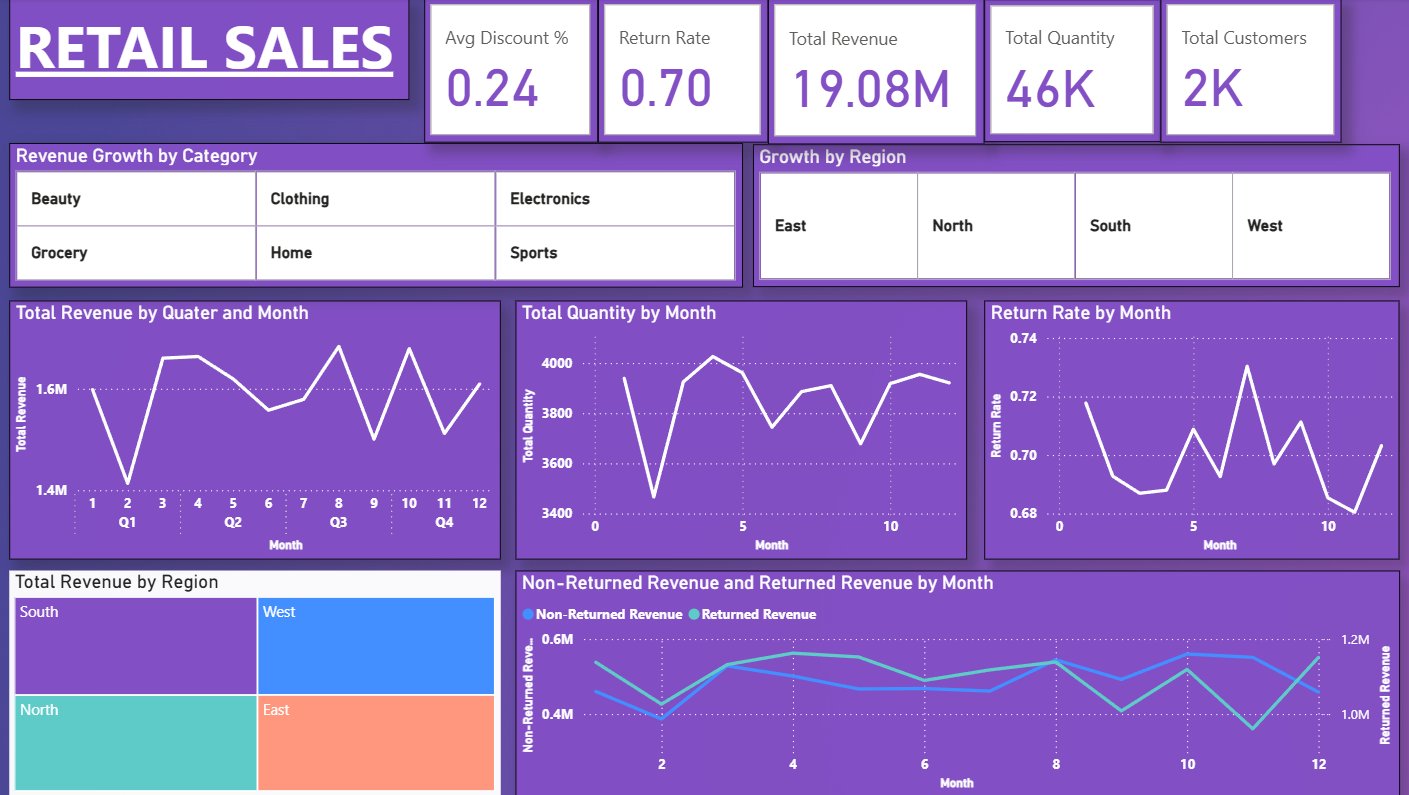

Layout of this report page (visuals, bound fields, positions):
{"tool":"powerbi","page":{"name":"Page 1","canvas":[1280,720],"ordinal":0},"visuals":[{"type":"lineChart","fields":{"Category":["Date.Quater","Date.Month"],"Y":["retail_sales_cleaned.Total Revenue"]},"box":[9.6,273.1,443.2,233.3],"z":0},{"type":"advancedSlicerVisual","title":"Revenue Growth  by Category","fields":{"Values":["retail_sales_cleaned.Product_Category"]},"box":[9.6,130.4,661.4,130.4],"z":1000},{"type":"textbox","box":[9.6,0,360.9,91.9],"z":2000},{"type":"advancedSlicerVisual","title":"Growth by Region","fields":{"Values":["retail_sales_cleaned.Region"]},"box":[680.6,131.7,583.2,129],"z":3000},{"type":"cardVisual","fields":{"Data":["retail_sales_cleaned.Avg Discount %"]},"box":[384.2,0,156.4,130.4],"z":4000},{"type":"cardVisual","fields":{"Data":["retail_sales_cleaned.Return Rate"]},"box":[540.7,0,153.7,130.4],"z":5000},{"type":"cardVisual","fields":{"Data":["retail_sales_cleaned.Total Revenue"]},"box":[694.3,0,194.9,131.7],"z":6000},{"type":"cardVisual","fields":{"Data":["retail_sales_cleaned.Total Quantity"]},"box":[889.2,1.4,159.2,129],"z":7000},{"type":"cardVisual","fields":{"Data":["Customer Table.Total Customers"]},"box":[1048.4,0,163.3,130.4],"z":8000},{"type":"lineChart","fields":{"Y":["retail_sales_cleaned.Total Quantity"],"Category":["Date.Month"]},"box":[466.6,273.1,407.5,233.3],"z":9000},{"type":"lineChart","fields":{"Y":["retail_sales_cleaned.Return Rate"],"Category":["Date.Month"]},"box":[889.2,273.1,374.6,233.3],"z":10000},{"type":"treemap","fields":{"Group":["retail_sales_cleaned.Region"],"Values":["retail_sales_cleaned.Total Revenue"]},"box":[10,516,443,204],"z":11000},{"type":"lineChart","fields":{"Y":["retail_sales_cleaned.Non-Returned Revenue"],"Category":["Date.Month"],"Y2":["Customer Table.Returned Revenue"]},"box":[466.6,516,797.3,204.5],"z":12000}]}

Visuals, with their boxes in screenshot pixels (x1, y1, x2, y2), scaled from the page's 1280x720 canvas onto the 1409x795 screenshot:
lineChart - Date.Quater x Date.Month: <box>11,302,498,559</box>
"Revenue Growth  by Category" advancedSlicerVisual: <box>11,144,739,288</box>
textbox: <box>11,0,408,101</box>
"Growth by Region" advancedSlicerVisual: <box>749,145,1391,288</box>
cardVisual - retail_sales_cleaned.Avg Discount %: <box>423,0,595,144</box>
cardVisual - retail_sales_cleaned.Return Rate: <box>595,0,764,144</box>
cardVisual - retail_sales_cleaned.Total Revenue: <box>764,0,979,145</box>
cardVisual - retail_sales_cleaned.Total Quantity: <box>979,2,1154,144</box>
cardVisual - Customer Table.Total Customers: <box>1154,0,1334,144</box>
lineChart - retail_sales_cleaned.Total Quantity x Date.Month: <box>514,302,962,559</box>
lineChart - retail_sales_cleaned.Return Rate x Date.Month: <box>979,302,1391,559</box>
treemap - retail_sales_cleaned.Region x retail_sales_cleaned.Total Revenue: <box>11,570,499,794</box>
lineChart - retail_sales_cleaned.Non-Returned Revenue x Date.Month: <box>514,570,1391,794</box>
